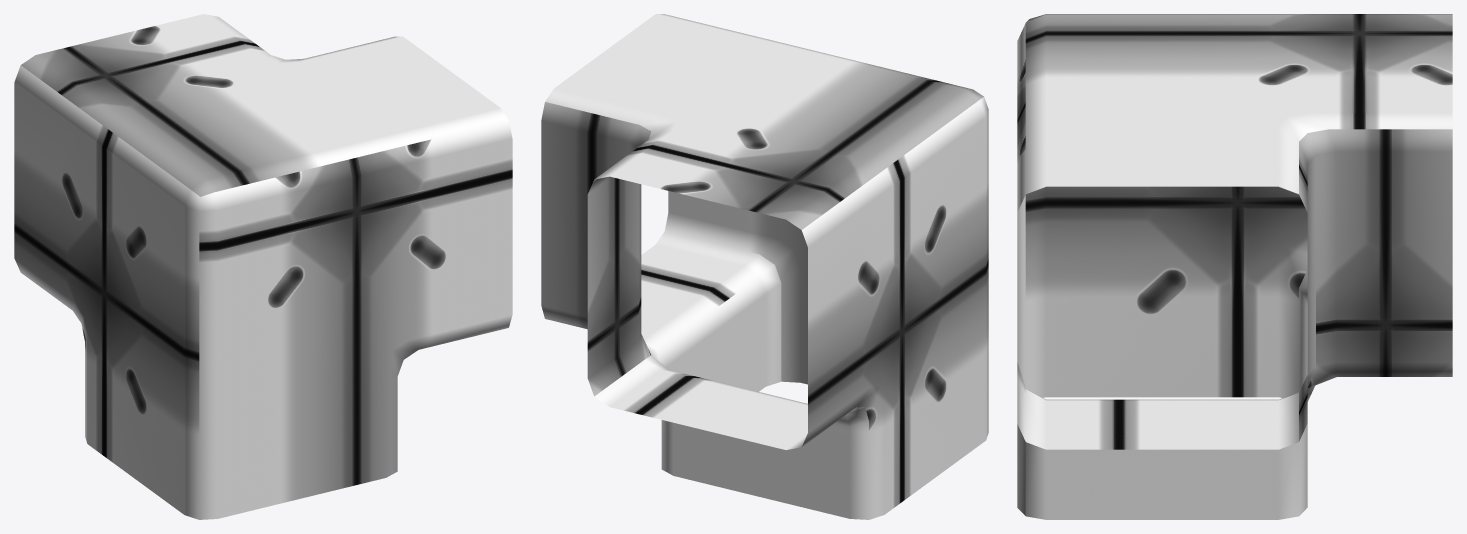
Rendered from MDL_Trim_3Corner.fbx.
3 renders of one model, left to right at view 1: azimuth 30°, elevation 25°; view 2: azimuth 150°, elevation 25°; view 3: azimuth 270°, elevation 25°, orthographic. The views are drawn at different scales.
Parts seen in each view (by area): view 1: trim3Corner; view 2: trim3Corner; view 3: trim3Corner.
Part boxes in pixels (left/top/right/bottom): trim3Corner: left=14, top=14, right=512, bottom=519; trim3Corner: left=541, top=14, right=988, bottom=519; trim3Corner: left=1017, top=14, right=1452, bottom=519.
Bounding box in the file's own units: 0.75 × 0.75 × 0.75.
